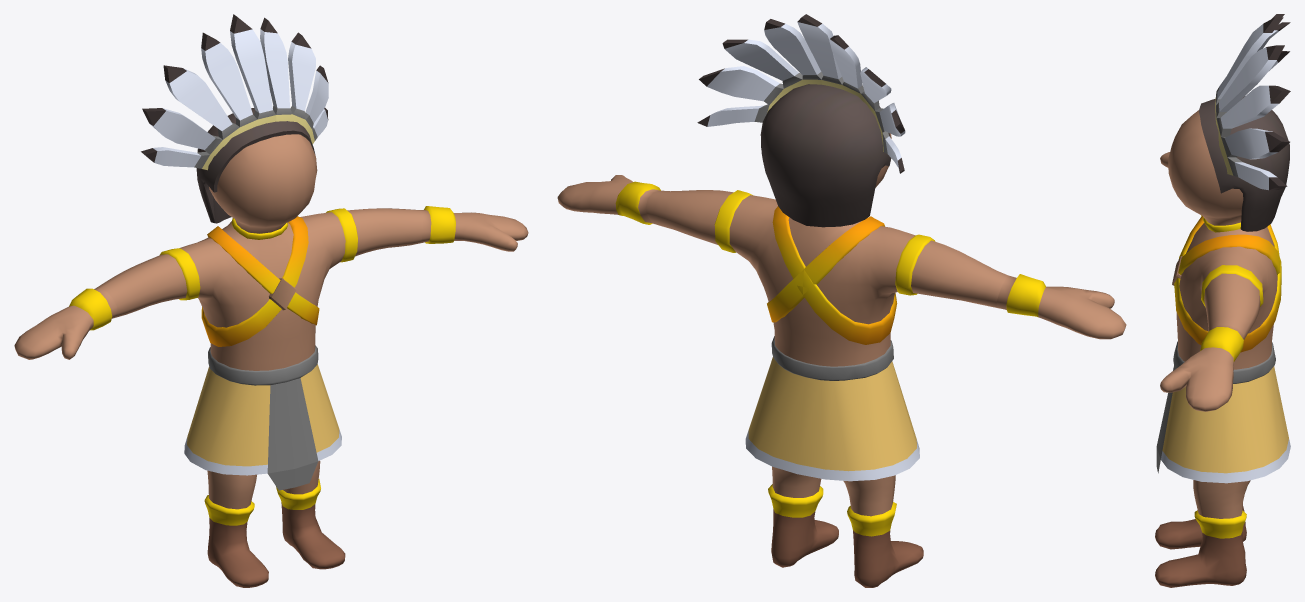
File: Indian.fbx
3 renders of one model, left to right at view 1: azimuth 30°, elevation 25°; view 2: azimuth 150°, elevation 25°; view 3: azimuth 270°, elevation 25°, orthographic. The views are drawn at different scales.
Visible parts, largest first — view 1: Indian; view 2: Indian; view 3: Indian.
Boxes of the visible parts, x1,y1,x2,y2 form: Indian: (14, 14, 528, 587); Indian: (557, 14, 1126, 587); Indian: (1155, 14, 1290, 587).
Bounding box in the file's own units: 24.14 × 23.72 × 5.34.
